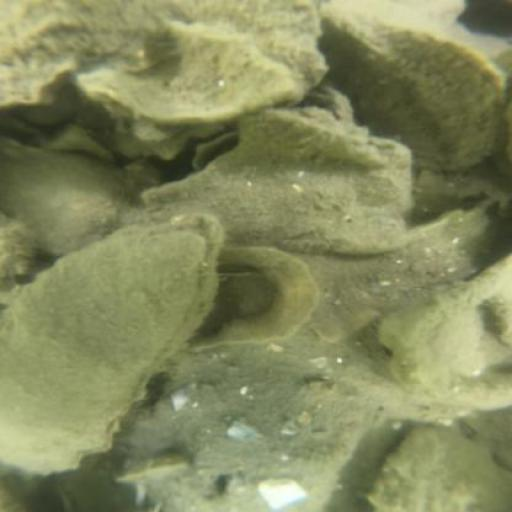Oyster-Closed: (138, 113, 416, 250), (122, 377, 397, 512), (326, 11, 503, 166), (4, 5, 189, 109), (181, 1, 332, 95), (1, 144, 122, 256), (371, 429, 511, 512)
Oyster-Open: (8, 221, 225, 485)
